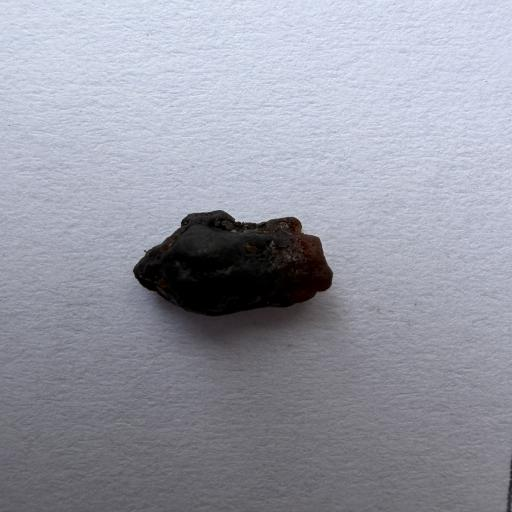Black_pepper: (137, 203, 355, 331)
